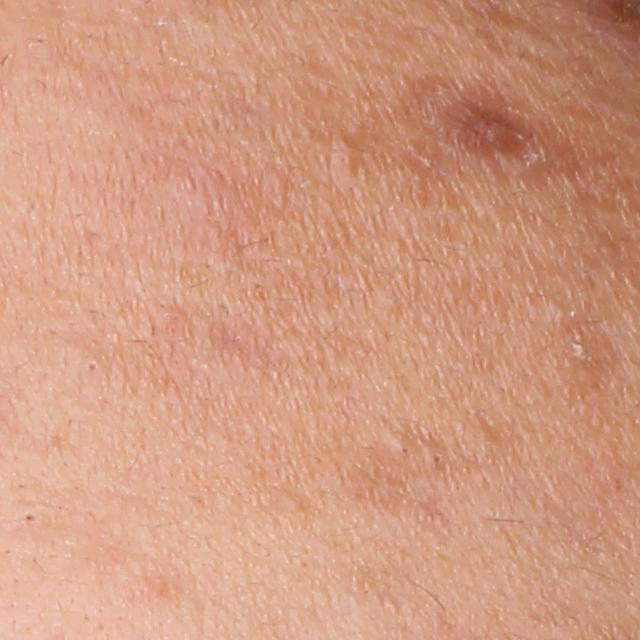comedo: (386, 435, 418, 462), (423, 447, 454, 468), (19, 506, 44, 529), (80, 356, 102, 376)
